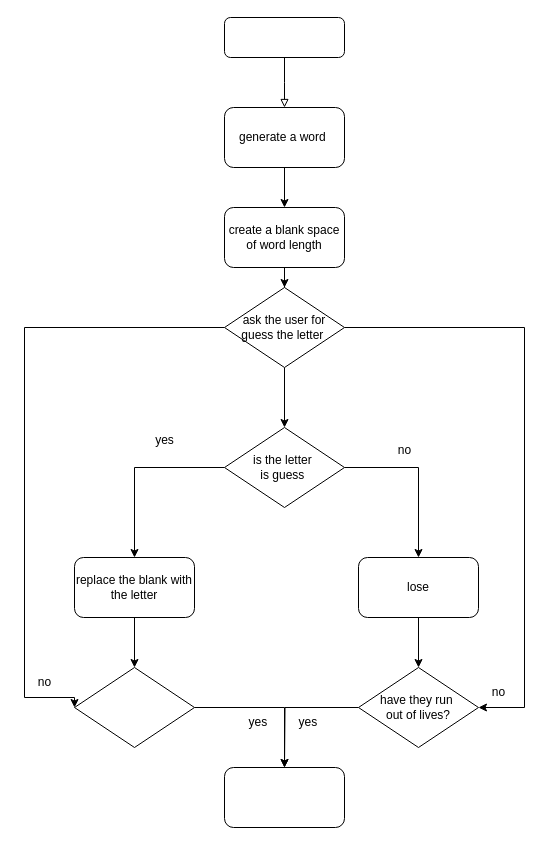
Image size: 550x845. Some labels were removed from this diagram. The shapes that lost their labels are listed below. From the top down, each one's centre as x and y in pixels, then its label:
point 284,37: start
point 134,707: all the blanks filled?
point 284,797: game over
